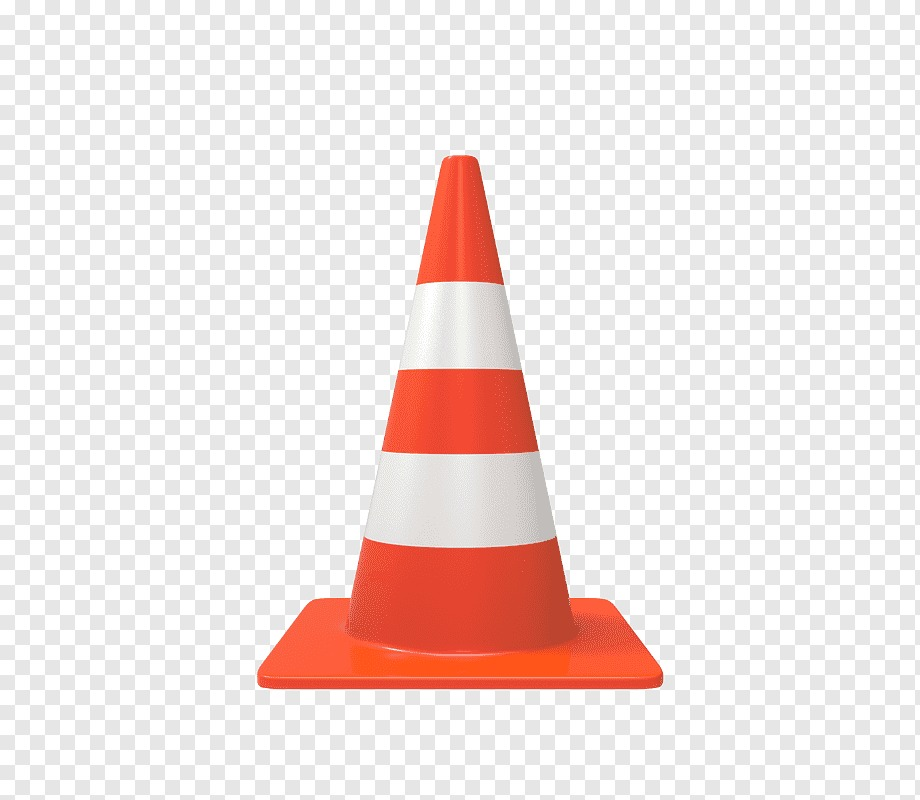cones: (249, 154, 675, 695)
